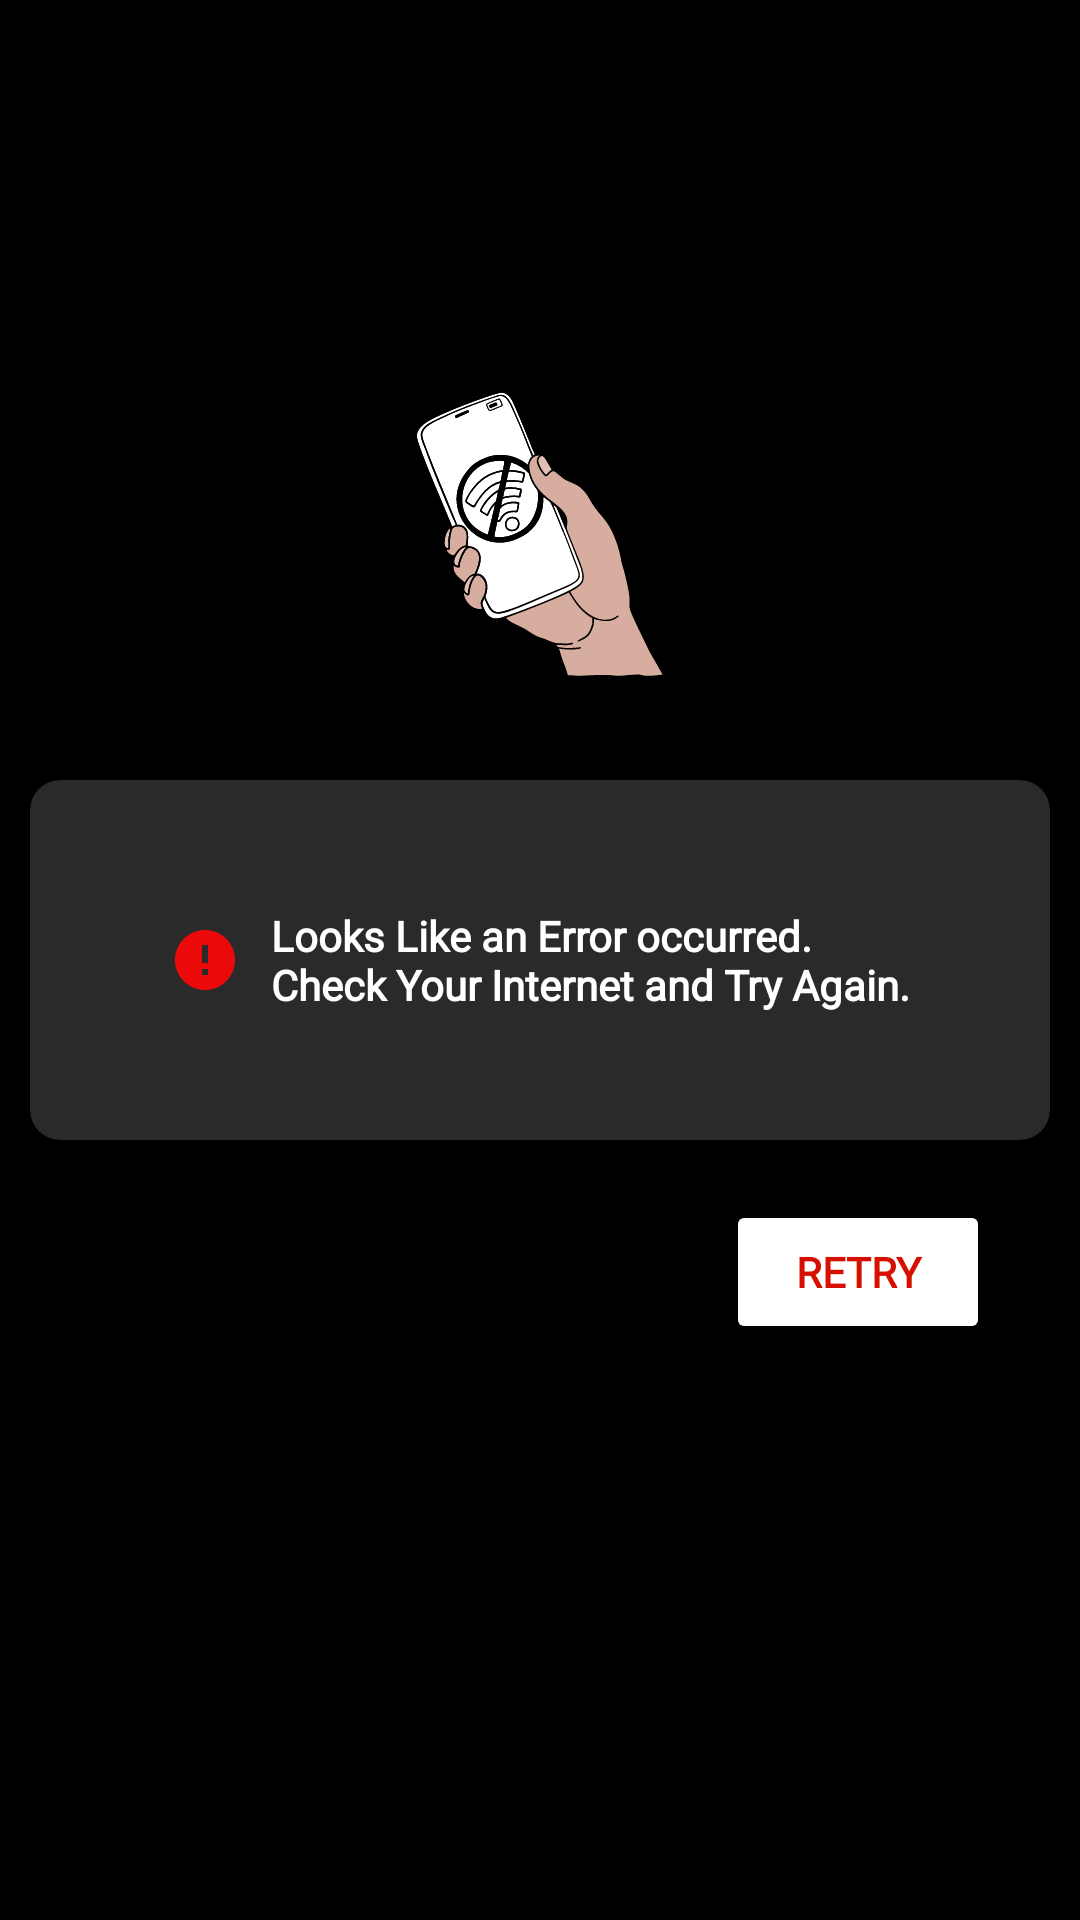

Where to tap for icons on this 1080w x 1920h app screen, as point (x, y):
no connection: point (540, 534)
